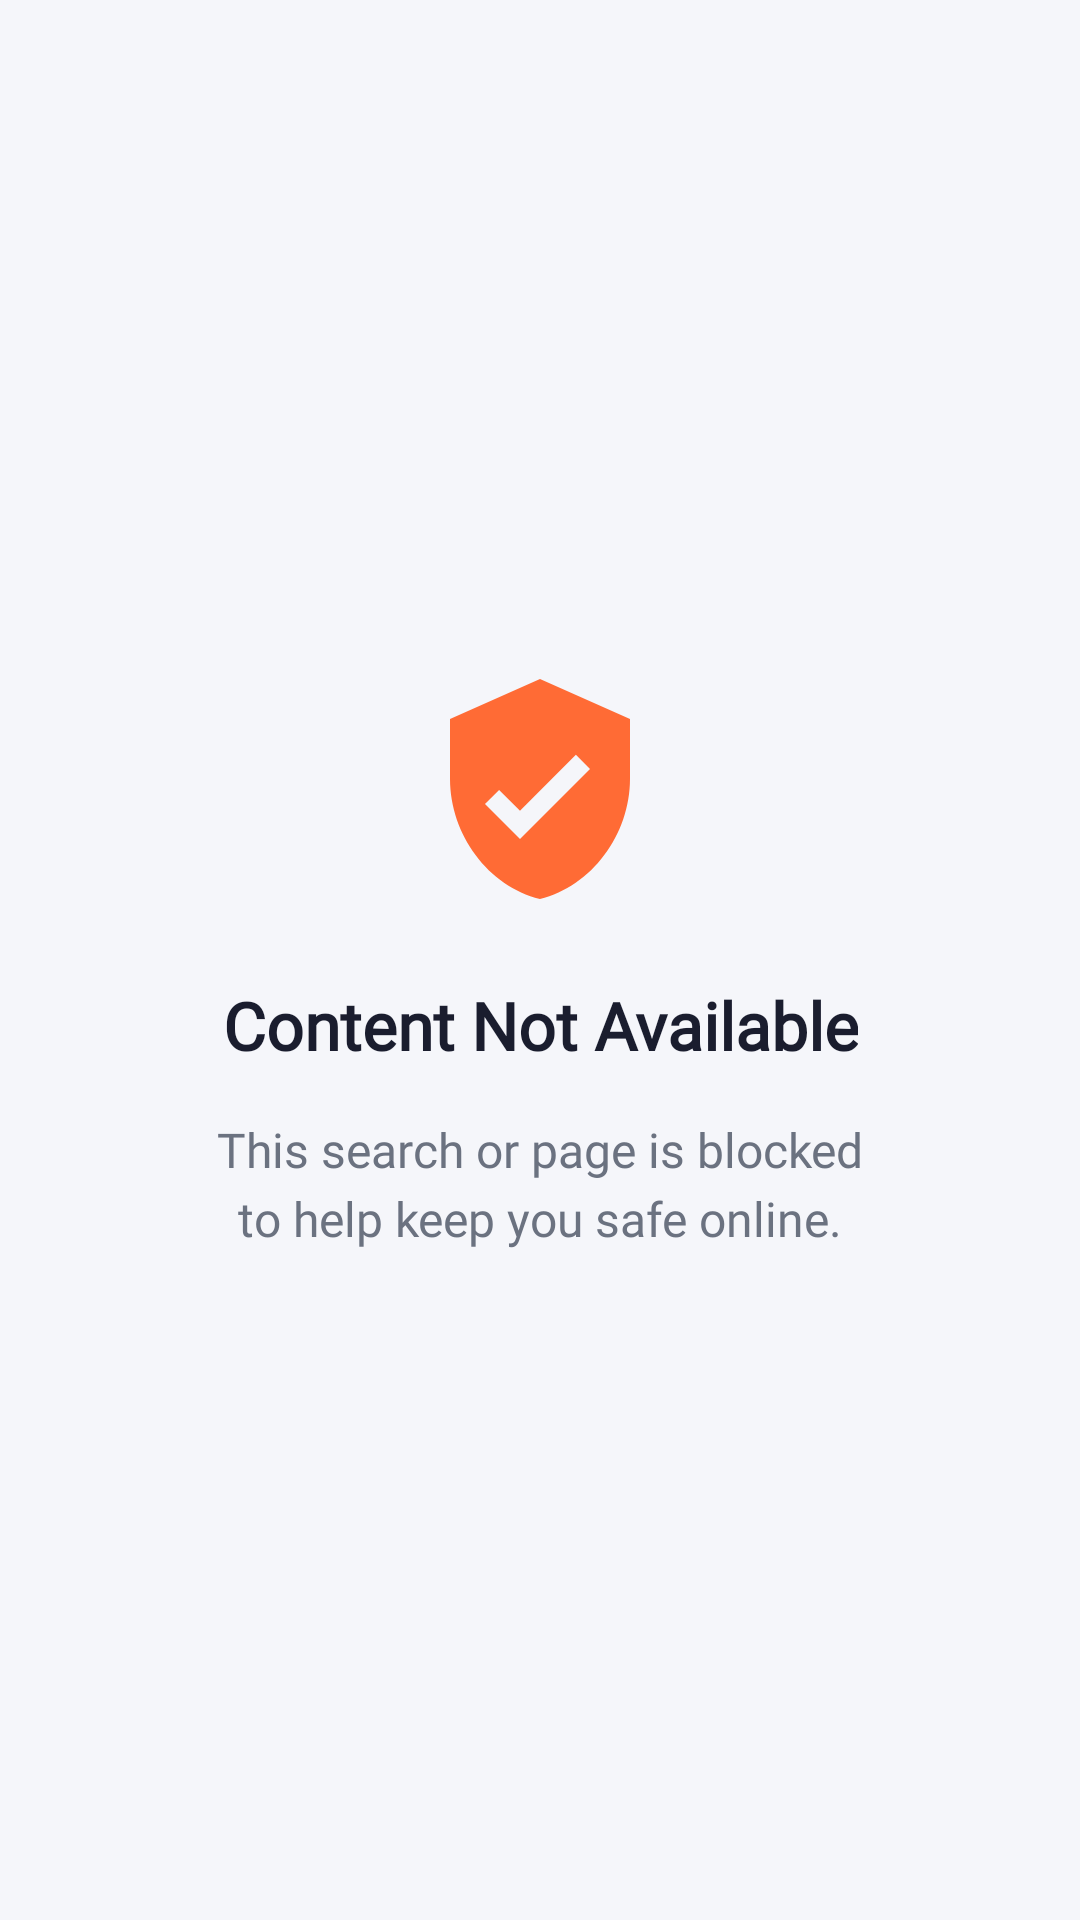

Icons on this 1080×1920 Android screen, each with the point to tap as point (x, y):
shield check: point (540, 789)
